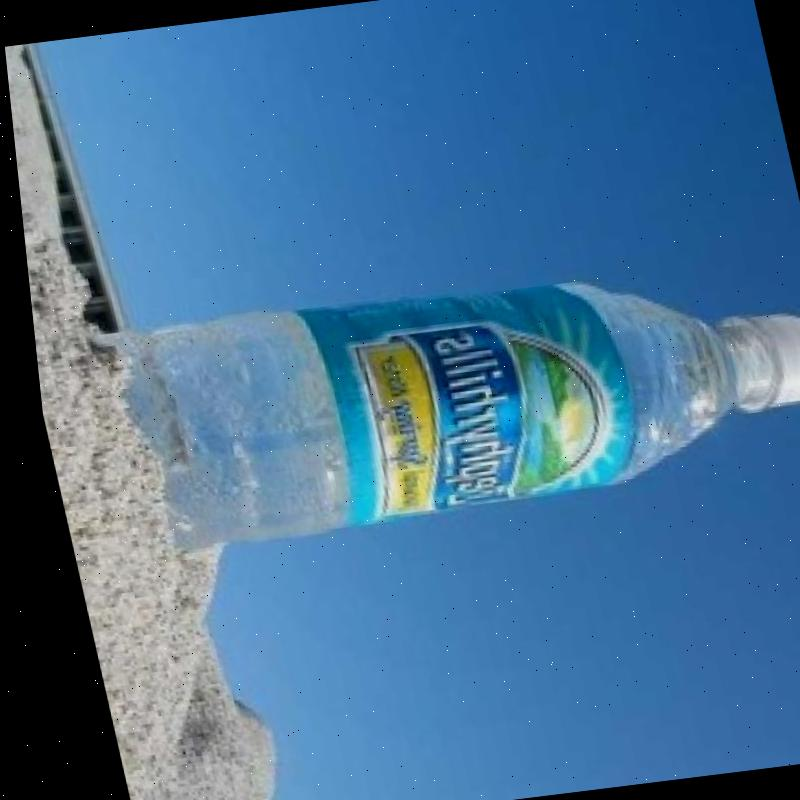botella: (74, 236, 800, 542)
